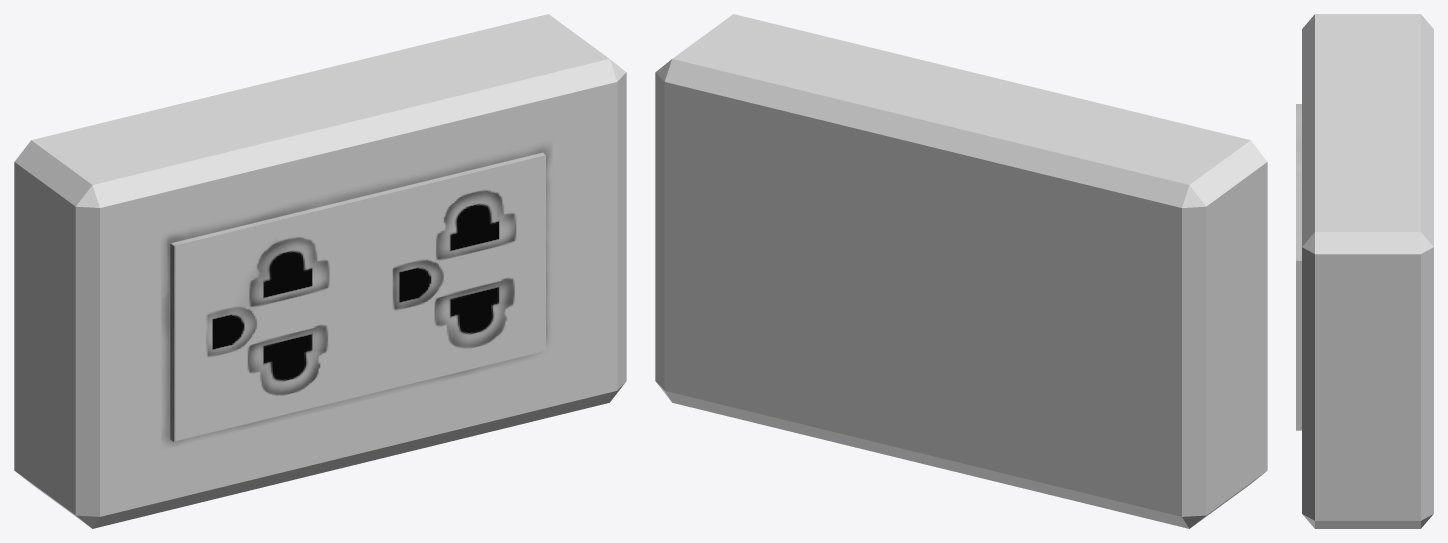
The model's file is power_plug.fbx.
3 views of the same model, side by side, from view 1: azimuth 30°, elevation 25°; view 2: azimuth 150°, elevation 25°; view 3: azimuth 270°, elevation 25° (orthographic). The views are drawn at different scales.
Visible parts, largest first — view 1: power_plug_mesh; view 2: power_plug_mesh; view 3: power_plug_mesh.
Boxes of the visible parts, left/top/right/bottom form: power_plug_mesh: left=14, top=14, right=626, bottom=528; power_plug_mesh: left=655, top=14, right=1267, bottom=528; power_plug_mesh: left=1296, top=14, right=1433, bottom=528.
Bounding box in the file's own units: 1.82 × 1.08 × 0.4557.
Materials: 1 (1 with a texture image).
